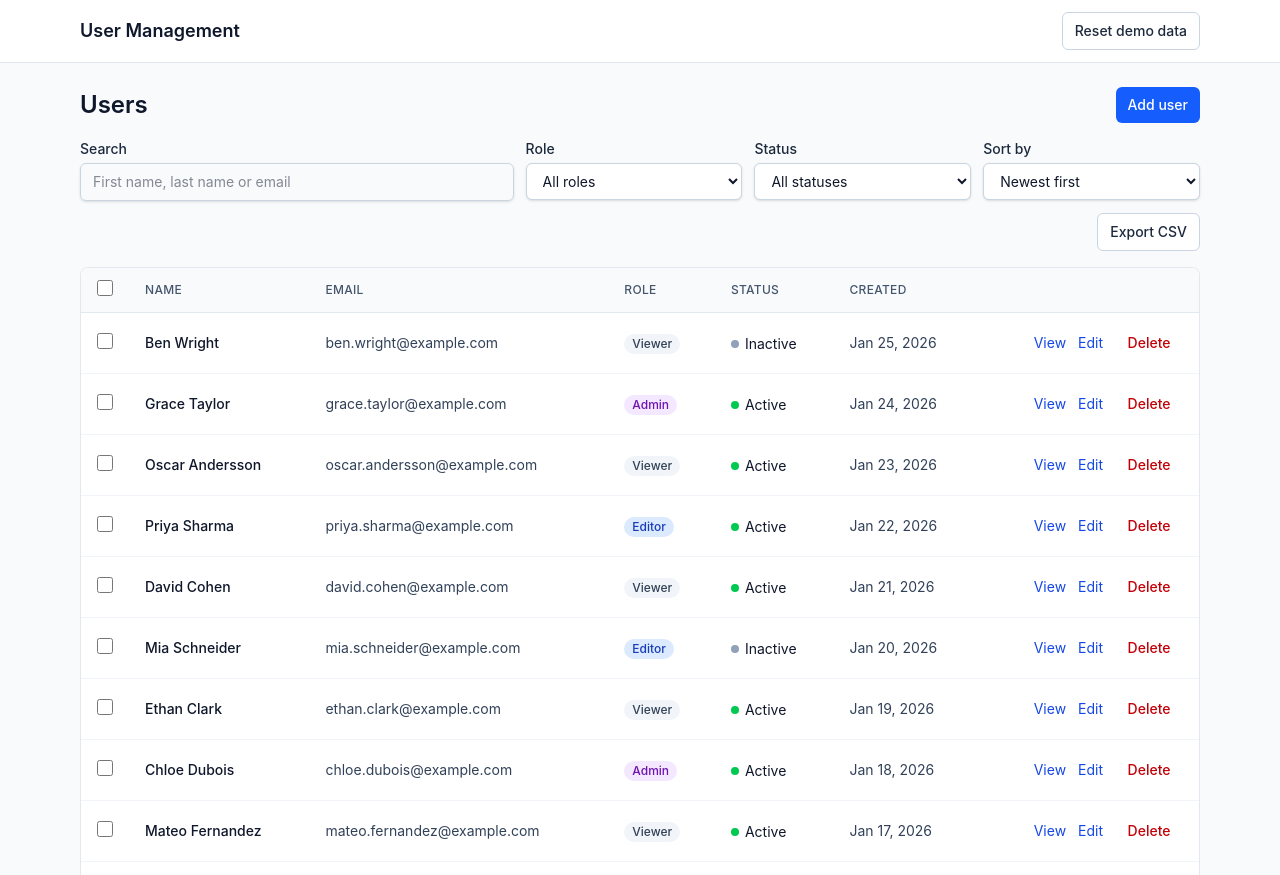
Scenario: Delete user from the list › shows an error toast and keeps the user when the delete fails
Click the button with aria-label "Delete Ben Wright".
click(1149, 343)  # box [1115, 325, 1183, 361]
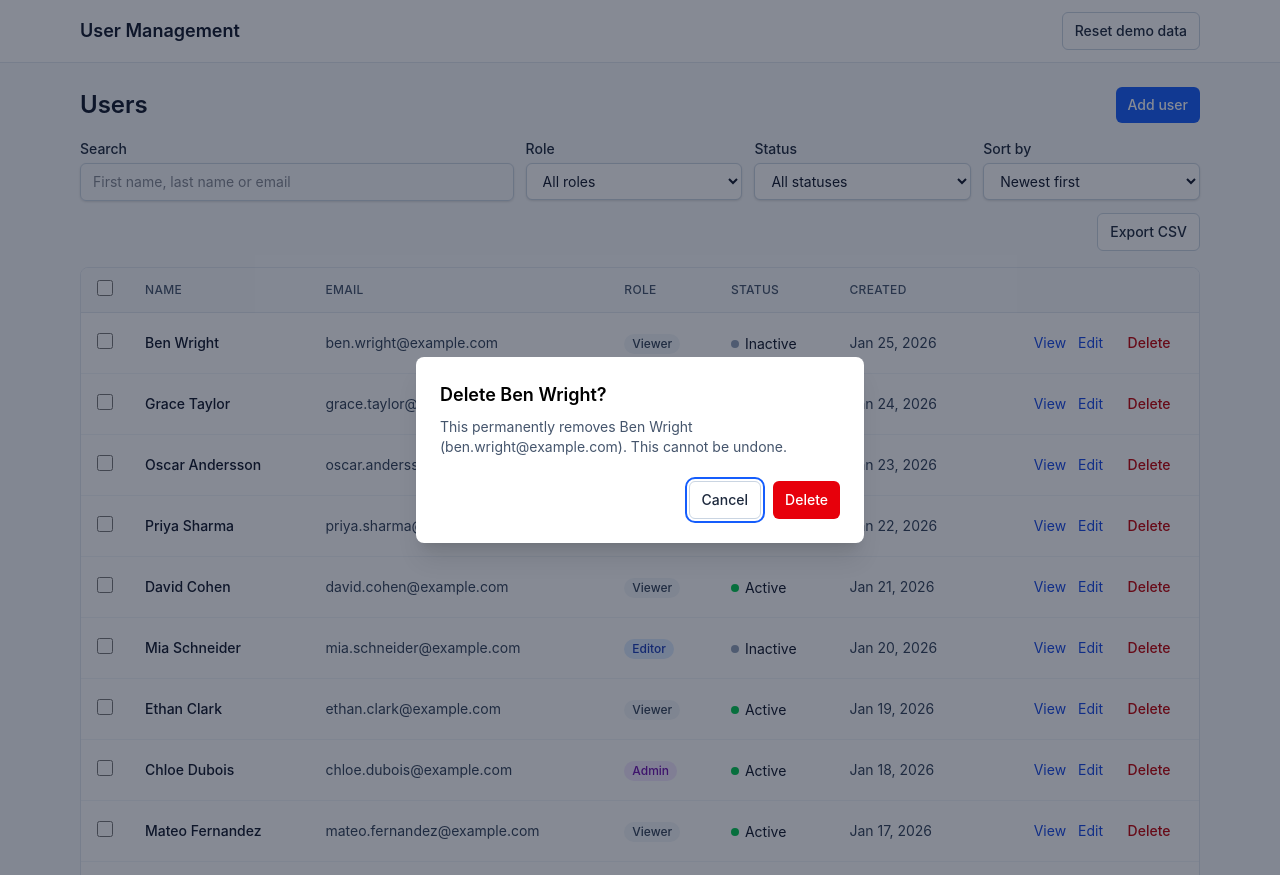
Click the button "Delete".
click(807, 500)  # box [773, 481, 840, 519]
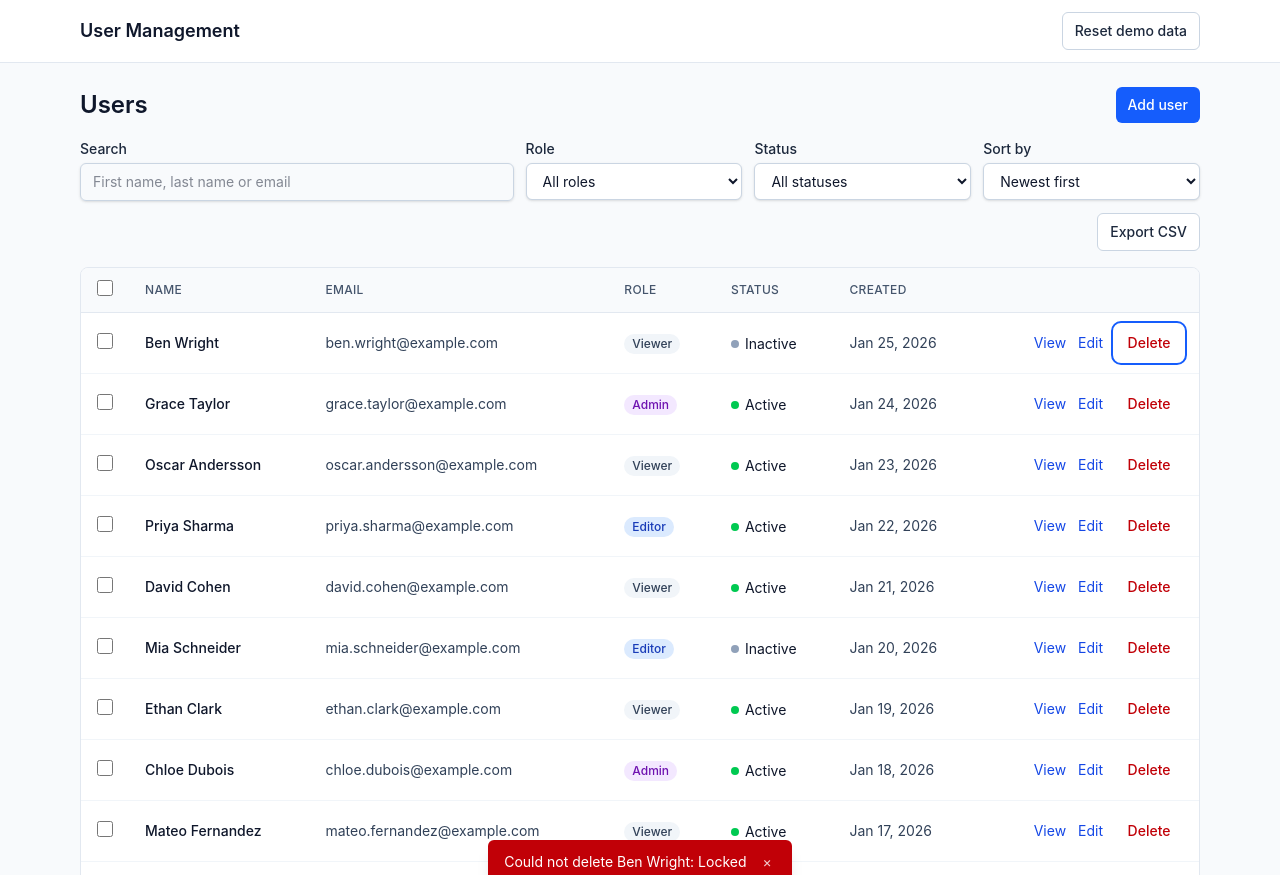
Expected: the column heading "Ben Wright" is shown, [129, 313, 309, 374]
Now the text "Could not delete Ben Wright: Locked" is shown, box [504, 852, 746, 872]
Now the dialog is gone
